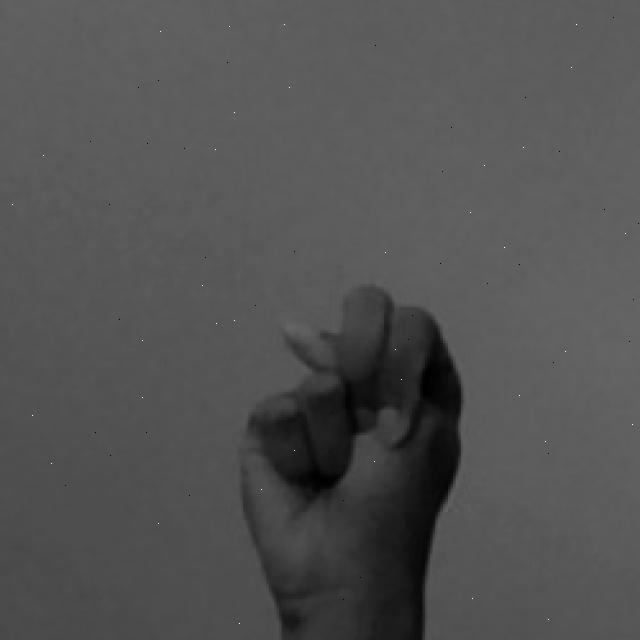N: (228, 279, 468, 640)
